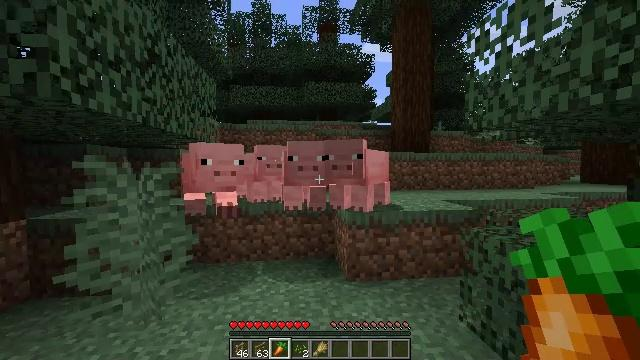pig: (326, 140, 393, 212), (182, 143, 244, 206), (287, 139, 326, 203), (244, 145, 286, 202)
